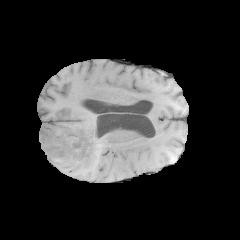glioma: (39, 124, 101, 171)
